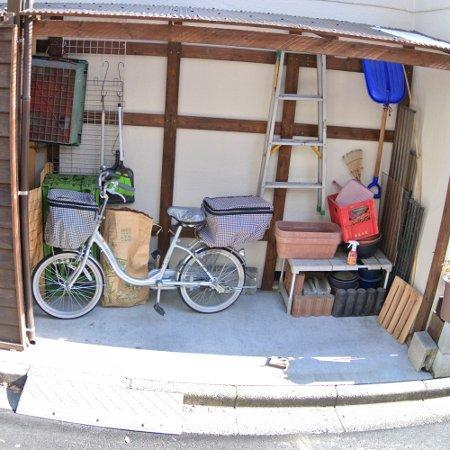bicycles: (32, 159, 246, 319)
